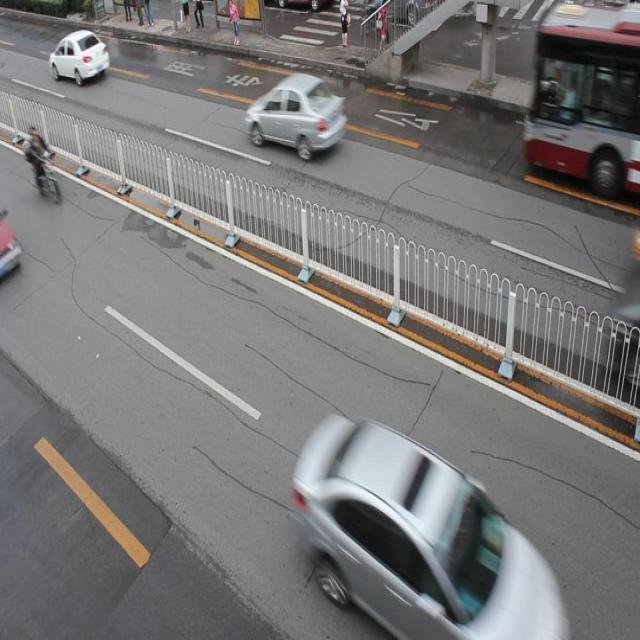car: (299, 412, 563, 640), (246, 72, 346, 156), (49, 30, 111, 83)
van: (523, 1, 640, 191)
